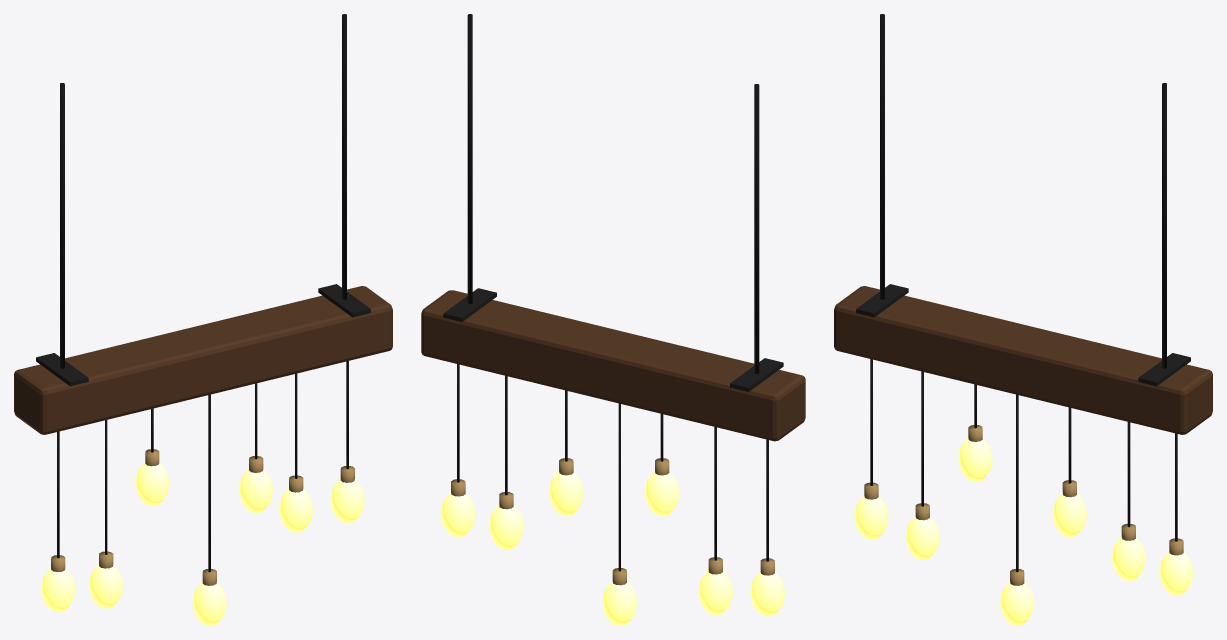
Rendered from edison.glb.
3 renders of one model, left to right at view 1: azimuth 30°, elevation 25°; view 2: azimuth 150°, elevation 25°; view 3: azimuth 330°, elevation 25°, orthographic.
Visible parts, largest first — view 1: beam, chain.001, chain, bulb.001, bulb.006, bulb.002, bulb.003, bulb.005, bulb, bulb.004, bracket, bracket.001 (+1 smaller); view 2: beam, chain.001, chain, bulb.005, bulb.004, bulb, bulb.002, bulb.006, bulb.003, bulb.001, bracket.001, bracket; view 3: beam, chain, chain.001, bulb.002, bulb, bulb.003, bulb.006, bulb.001, bulb.005, bulb.004, bracket.001, bracket (+1 smaller).
Part boxes in pixels (<box>): beam: <box>14,286,392,434</box>; chain.001: <box>342,14,346,299</box>; chain: <box>60,83,64,368</box>; bulb.001: <box>89,564,123,608</box>; bulb.006: <box>330,478,364,522</box>; bulb.002: <box>135,462,169,506</box>; bulb.003: <box>192,581,226,625</box>; bulb.005: <box>279,488,313,532</box>; bulb: <box>41,568,75,612</box>; bulb.004: <box>239,469,273,512</box>; bracket: <box>36,353,88,386</box>; bracket.001: <box>318,284,370,317</box>; beam: <box>421,290,805,441</box>; chain.001: <box>467,14,472,304</box>; chain: <box>754,84,759,373</box>; bulb.005: <box>489,505,523,549</box>; bulb.004: <box>549,471,583,515</box>; bulb: <box>750,571,784,616</box>; bulb.002: <box>644,471,679,515</box>; bulb.006: <box>441,492,475,537</box>; bulb.003: <box>602,581,637,625</box>; bulb.001: <box>698,570,732,615</box>; bracket.001: <box>443,288,496,321</box>; bracket: <box>730,358,783,391</box>; beam: <box>834,286,1212,434</box>; chain: <box>880,14,884,299</box>; chain.001: <box>1162,83,1166,368</box>; bulb.002: <box>958,438,992,481</box>; bulb: <box>854,495,888,539</box>; bulb.003: <box>1000,581,1034,625</box>; bulb.006: <box>1159,551,1193,595</box>; bulb.001: <box>905,516,939,560</box>; bulb.005: <box>1112,536,1145,580</box>; bulb.004: <box>1053,493,1086,537</box>; bracket.001: <box>1138,353,1190,386</box>; bracket: <box>856,284,908,317</box>.
Bounding box in the file's own units: 0.95 × 1.47 × 0.16.
